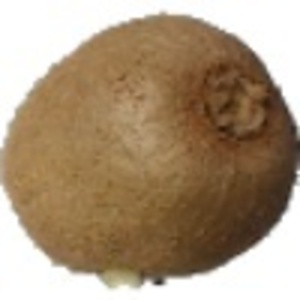kiwi: (1, 11, 300, 292)
